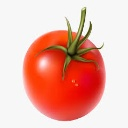tomato: (22, 30, 105, 121)
